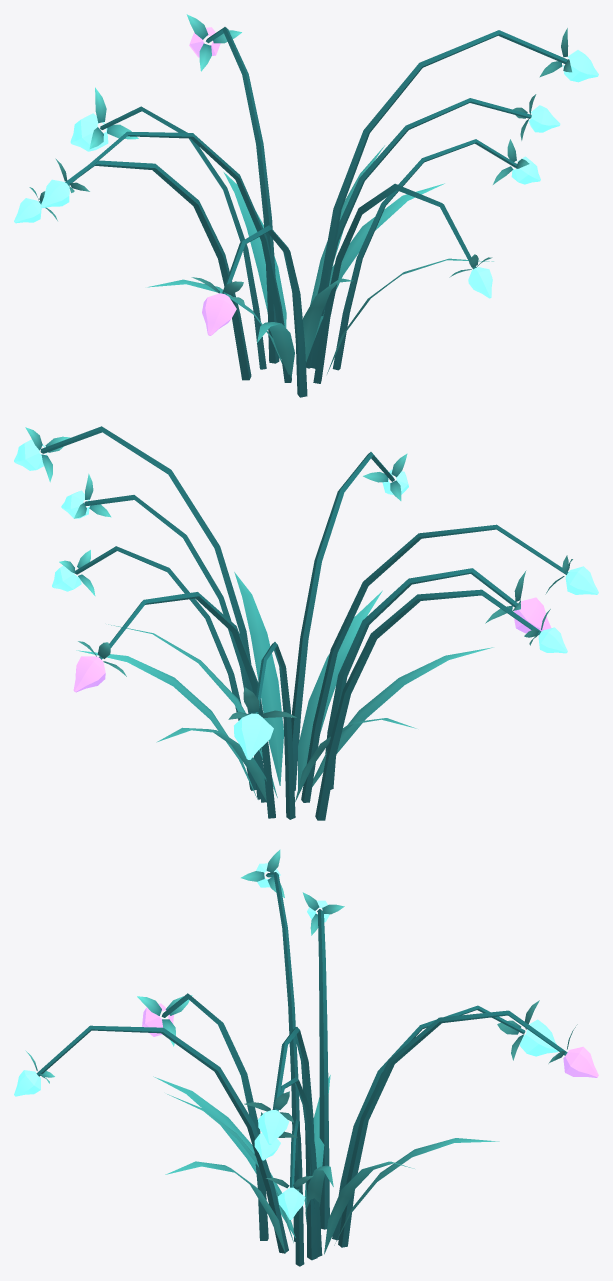
Rendered from glow_reed_lod1.glb.
3 renders of one model, top to bottom at view 1: azimuth 30°, elevation 25°; view 2: azimuth 150°, elevation 25°; view 3: azimuth 270°, elevation 25°, orthographic. The views are drawn at different scales.
Parts seen in each view (by area): view 1: GlowReed; view 2: GlowReed; view 3: GlowReed.
Boxes of the visible parts, x1=… form: GlowReed: x1=14, y1=14, x2=598, y2=397; GlowReed: x1=14, y1=426, x2=598, y2=820; GlowReed: x1=14, y1=849, x2=598, y2=1266.
Size of the model in its own units: 2.66 by 1.39 by 2.5.
